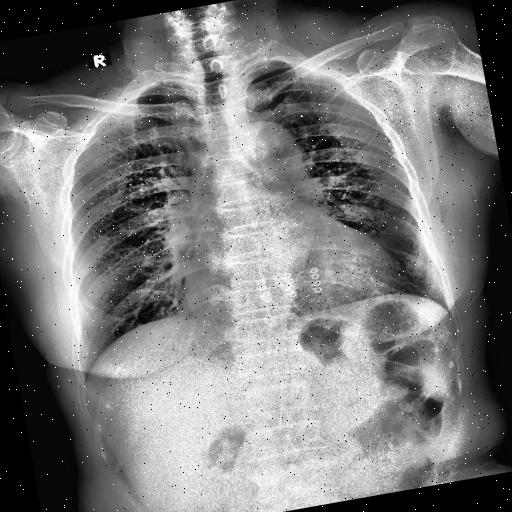0- Aortic enlargement: (220, 110, 310, 204), (234, 111, 312, 194), (228, 114, 304, 182)
3- Cardiomegaly: (180, 227, 407, 329), (180, 238, 410, 338), (178, 251, 402, 330)
